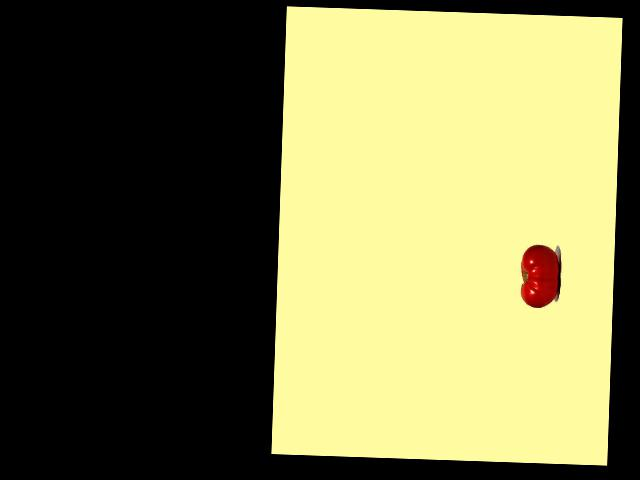tomato: (519, 244, 560, 308)
